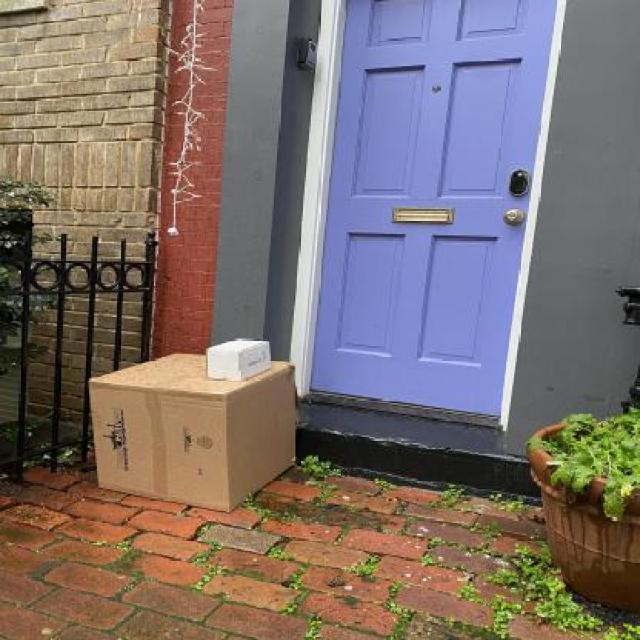cardboxes: (85, 348, 302, 514), (198, 335, 274, 382)
